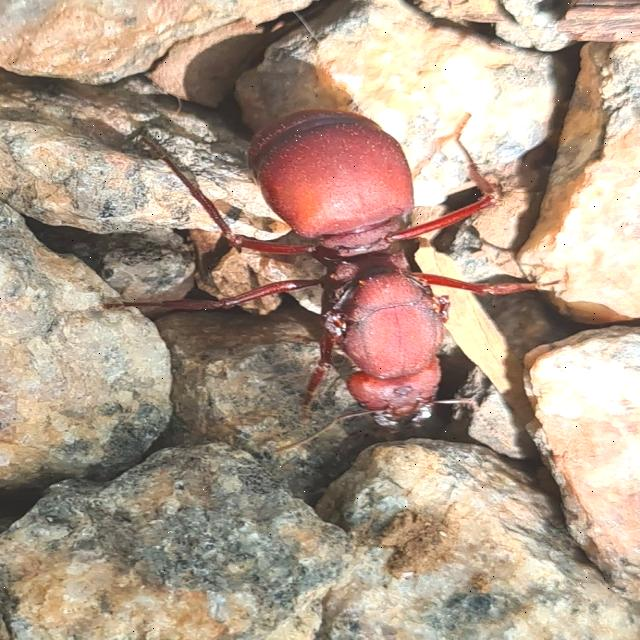Alive-Female-Dealate: (104, 108, 562, 454)
